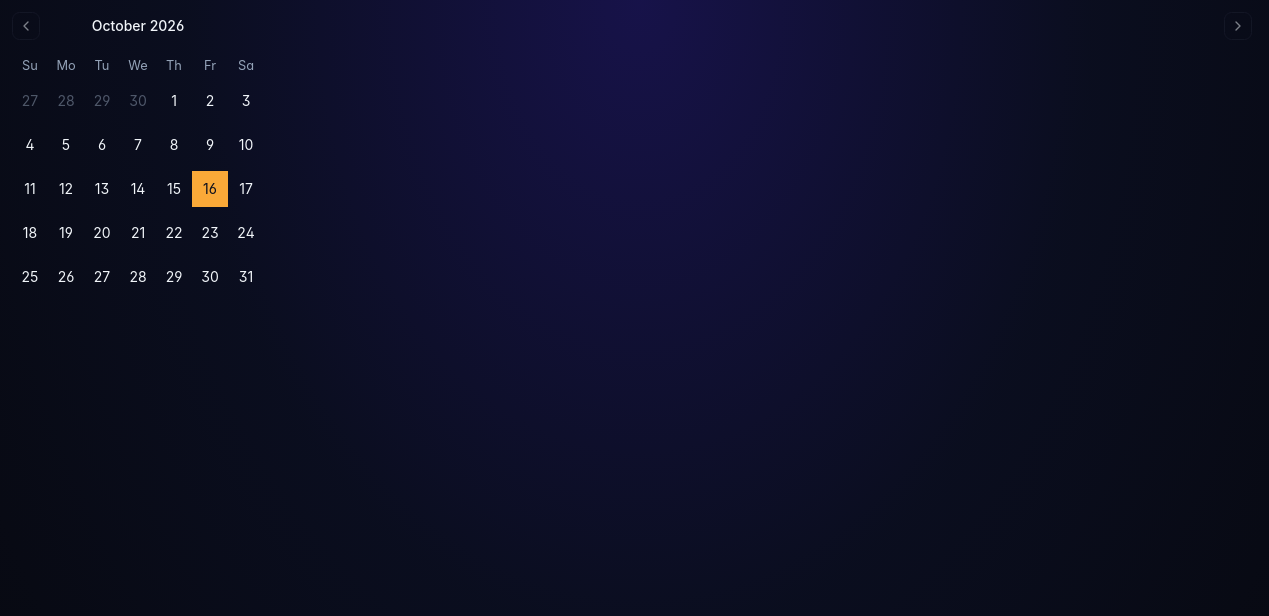
Scenario: UI adapters for installed component APIs › supports calendar day selection and month navigation
What coordinates should you click on to do the following:
click the button named "October 16"
I would click on:
 (210, 189)
Its box is [192, 171, 228, 207].
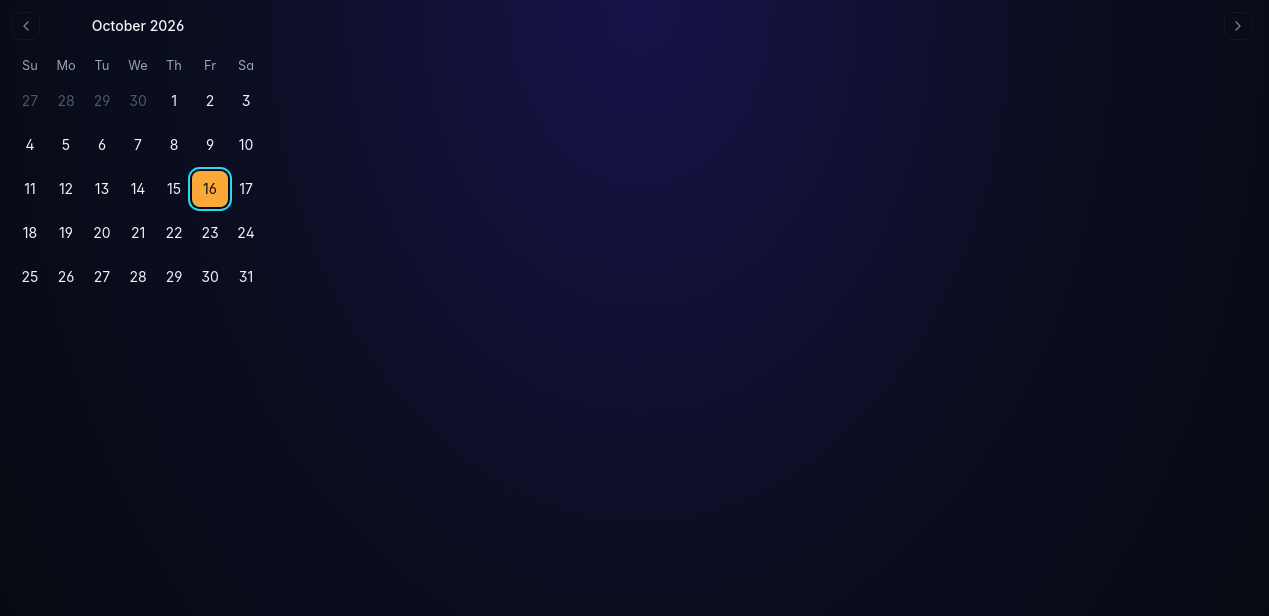
What coordinates should you click on to do the following:
click the button named "next month"
I would click on:
 (1238, 26)
Its box is [1224, 12, 1252, 40].
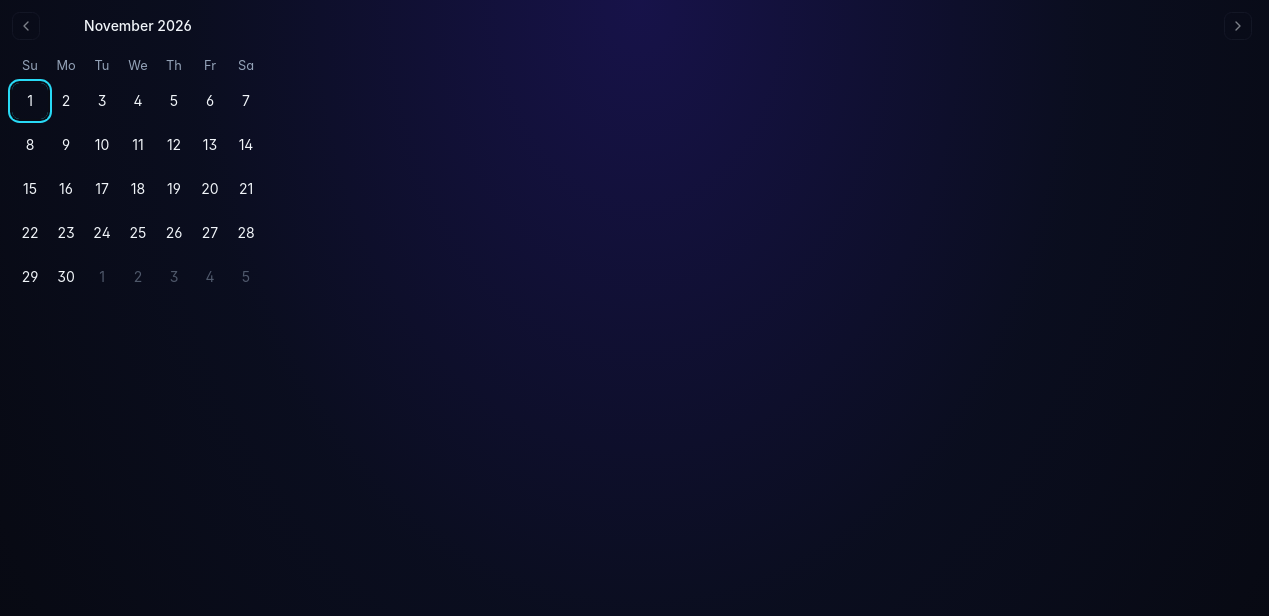
Check: the text "November 2026" is shown, box [84, 16, 192, 36]
